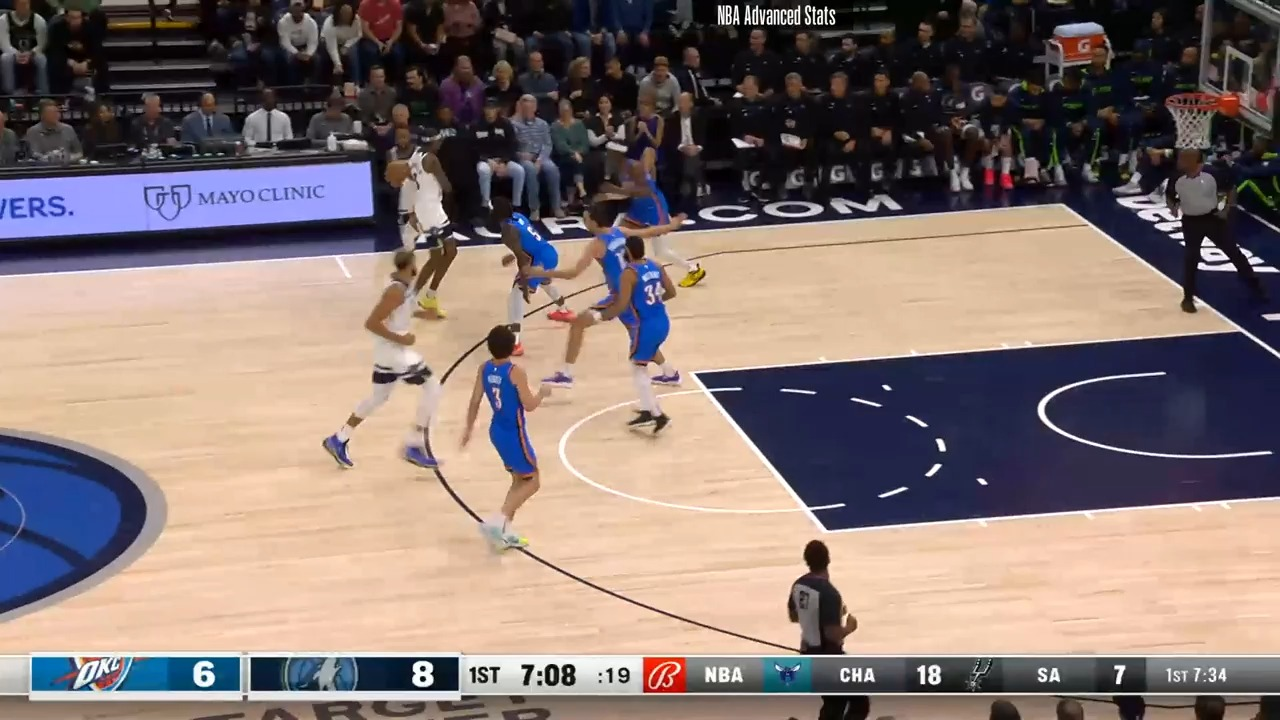net: (1164, 84, 1241, 152)
player: (326, 246, 461, 477), (529, 205, 681, 392), (457, 328, 561, 562), (594, 234, 690, 447), (599, 138, 708, 291), (481, 190, 578, 357), (409, 125, 455, 320), (384, 126, 422, 255)
referee: (1156, 149, 1260, 320), (787, 542, 863, 660)
